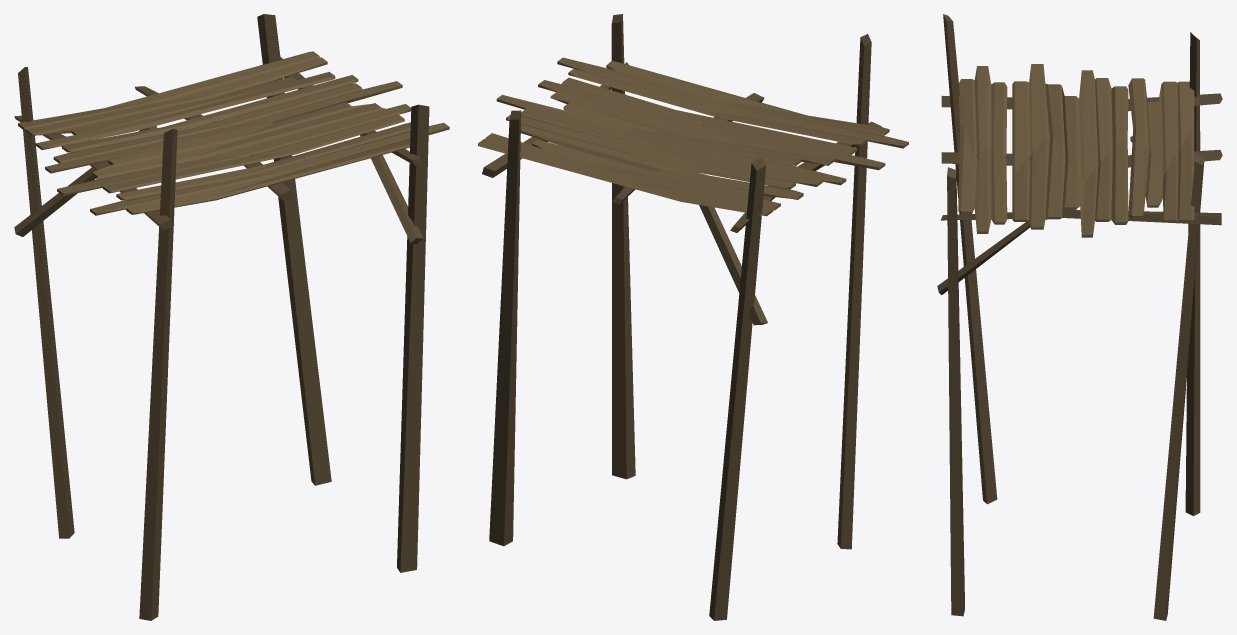
Rendered from SM_Bld_Rickety_Dock_Platform_02.glb.
The picture shows the model from 3 angles, left to right: view 1: azimuth 30°, elevation 25°; view 2: azimuth 150°, elevation 25°; view 3: azimuth 270°, elevation 25°; orthographic projection. The views are drawn at different scales.
Visible parts, largest first — view 1: SM_Bld_Rickety_Dock_Platform_02; view 2: SM_Bld_Rickety_Dock_Platform_02; view 3: SM_Bld_Rickety_Dock_Platform_02.
Part boxes in pixels (box(x1,y1,x2,y2)): SM_Bld_Rickety_Dock_Platform_02: box(14, 14, 449, 620); SM_Bld_Rickety_Dock_Platform_02: box(478, 14, 908, 620); SM_Bld_Rickety_Dock_Platform_02: box(937, 14, 1222, 620).
Bounding box in the file's own units: 0.0652 × 0.0866 × 0.0459.
